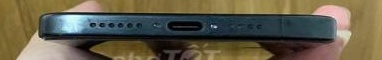scratch: (194, 18, 345, 41), (52, 15, 164, 38)
